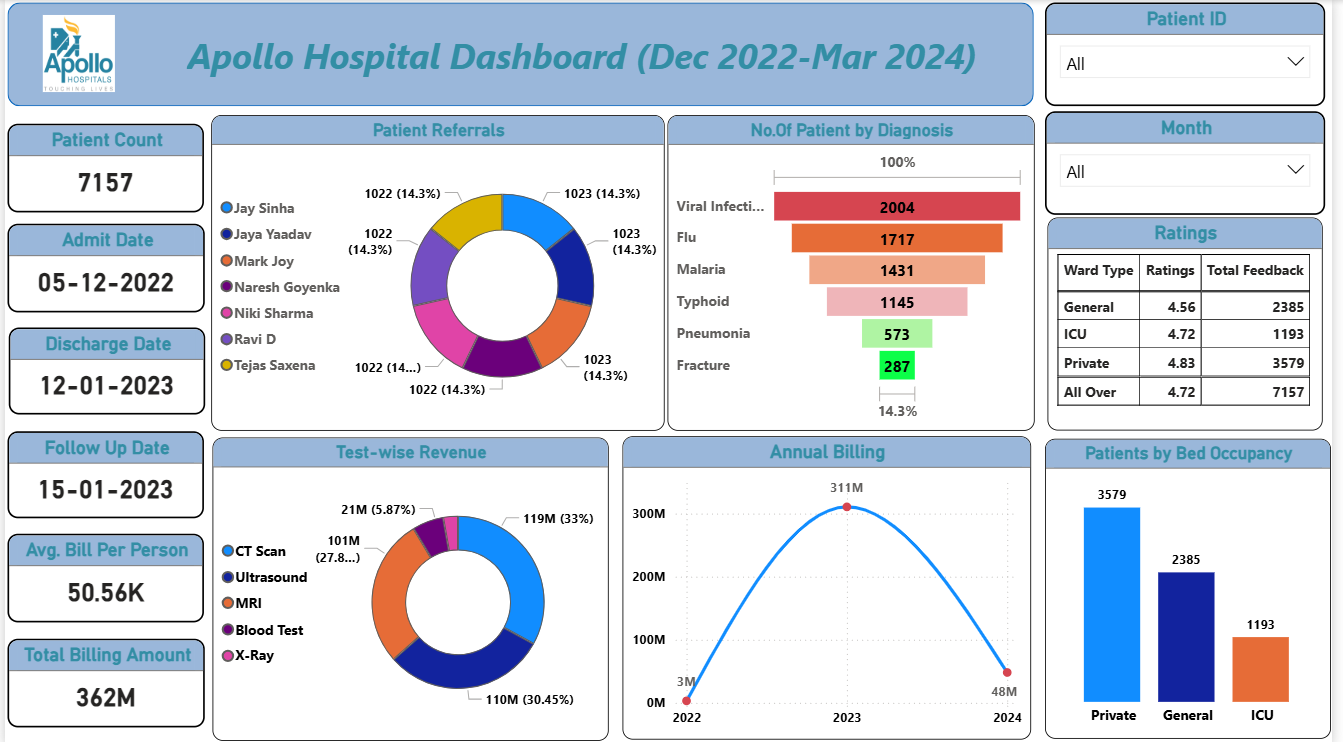

This screenshot's page, from the dashboard's own definition file:
{"tool":"powerbi","page":{"name":"Page 1","canvas":[1280,720],"ordinal":0},"visuals":[{"type":"shape","box":[2.4,2.4,990.5,100.3],"z":0},{"type":"image","box":[18.3,9.8,106.4,84.4],"z":1000},{"type":"slicer","title":"Patient ID","fields":{"Values":["Sheet1.Patient_ID"]},"box":[1003.9,2.4,270.2,100.3],"z":2000},{"type":"card","title":"Admit Date","fields":{"Values":["Min(Sheet1.Admit_Date)"]},"box":[2.4,216.4,190.8,85.6],"z":3000},{"type":"card","title":"Discharge Date","fields":{"Values":["Min(Sheet1.Discharge_Date)"]},"box":[3.7,315.5,189.5,84.4],"z":4000},{"type":"card","title":"Follow Up Date","fields":{"Values":["Min(Sheet1.Followup Date)"]},"box":[2.4,415.8,189.5,84.4],"z":5000},{"type":"card","title":"Total  Billing Amount","fields":{"Values":["Sum(Sheet1.Total Billing Amount)"]},"box":[2.4,616.3,190.8,85.6],"z":6000},{"type":"card","title":"Patient Count","fields":{"Values":["Sheet1.No.Of Patient"]},"box":[2.4,119.8,189.5,85.6],"z":7000},{"type":"card","title":"Avg. Bill Per Person","fields":{"Values":["Sheet1.Average Bill per Person"]},"box":[2.4,514.8,189.5,85.6],"z":8000},{"type":"slicer","title":"Month","fields":{"Values":["Sheet1.Admit_Date.Variation.Date Hierarchy.Month"]},"box":[1003.9,107.6,270.2,100.3],"z":9000},{"type":"columnChart","title":"Patients by Bed Occupancy","fields":{"Category":["Sheet1.Bed_Occupancy"],"Y":["Sheet1.No.Of Patient"],"Series":["Sheet1.Bed_Occupancy"]},"box":[1003.7,423.5,276.3,289.5],"z":10000},{"type":"donutChart","title":"Test-wise Revenue","fields":{"Category":["Sheet1.Test"],"Y":["Sum(Sheet1.Total Billing Amount)"]},"box":[200.3,422.3,382.4,293.2],"z":11000},{"type":"donutChart","title":"Patient Referrals","fields":{"Category":["Sheet1.Doctor"],"Y":["Sheet1.No.Of Patient"]},"box":[199.3,111.3,437.8,304.5],"z":12000},{"type":"funnel","fields":{"Category":["Sheet1.Diagnosis"],"Y":["Sheet1.No.Of Patient"]},"box":[639.5,111.3,354.6,304.5],"z":13000},{"type":"lineChart","title":"Annual Billing","fields":{"Y":["Sum(Sheet1.Total Billing Amount)"],"Category":["Sheet1.Admit_Date.Variation.Date Hierarchy.Year"]},"box":[596,421,394.5,293.2],"z":14000},{"type":"shape","box":[124.7,2.4,865.8,100.3],"z":15000},{"type":"tableEx","title":"Ratings","fields":{"Values":["Sheet1.Bed_Occupancy","Sheet1.Feedback","CountNonNull(Sheet1.Feedback)"]},"box":[1006.4,210.3,265.4,205.4],"z":16000}]}

Visuals, with their boxes in screenshot pixels (x1, y1, x2, y2), scaled from the page's 1280x720 canvas onto the 1343x742 screenshot:
shape: 3/2/1042/106
image: 19/10/131/97
"Patient ID" slicer: 1053/2/1337/106
"Admit Date" card: 3/223/203/311
"Discharge Date" card: 4/325/203/412
"Follow Up Date" card: 3/429/201/515
"Total  Billing Amount" card: 3/635/203/723
"Patient Count" card: 3/123/201/212
"Avg. Bill Per Person" card: 3/531/201/619
"Month" slicer: 1053/111/1337/214
"Patients by Bed Occupancy" columnChart: 1053/436/1342/735
"Test-wise Revenue" donutChart: 210/435/611/737
"Patient Referrals" donutChart: 209/115/668/429
funnel - Sheet1.Diagnosis x Sheet1.No.Of Patient: 671/115/1043/429
"Annual Billing" lineChart: 625/434/1039/736
shape: 131/2/1039/106
"Ratings" tableEx: 1056/217/1334/428
